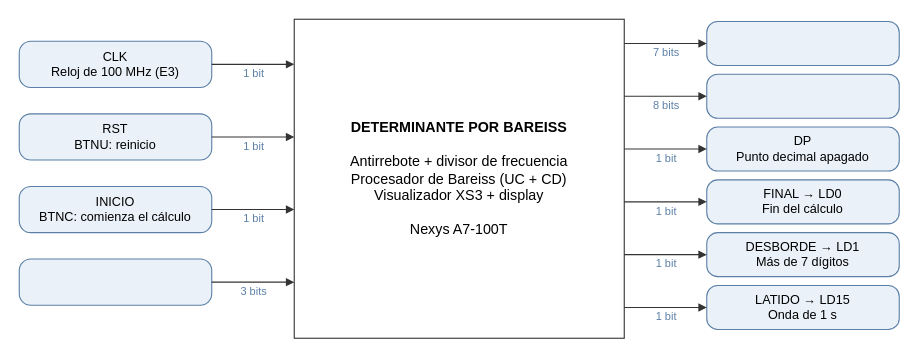
The diagram is 919 pixels wide and 358 high, and some of its shapes have lost their labels. The centre of each missing label's shape, as x and y in pixels:
AN[7:0] Selección de los 8 dígitos: the point at 802,95
DIR_P[2:0] SW2..SW0: pivote a mostrar: the point at 115,281
SEG[6:0] Segmentos CA..CG: the point at 802,42
